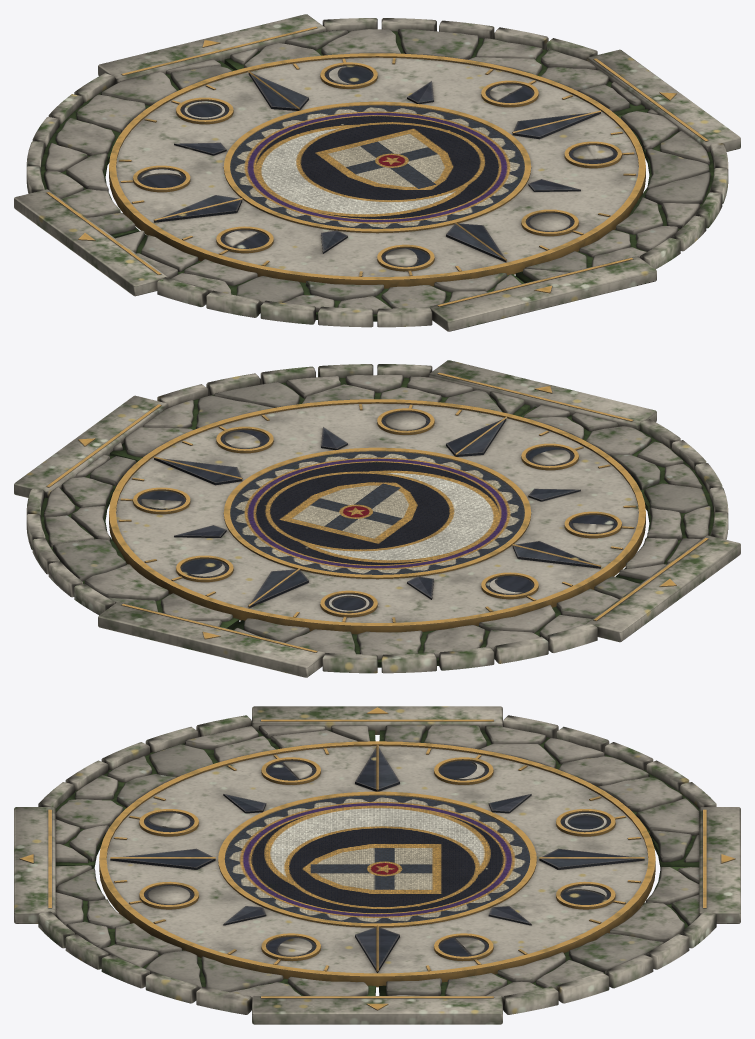
File: PathMoonRoundel.fbx
The picture shows the model from 3 angles, top to bottom: view 1: azimuth 30°, elevation 25°; view 2: azimuth 150°, elevation 25°; view 3: azimuth 270°, elevation 25°; orthographic projection. The views are drawn at different scales.
Parts seen in each view (by area): view 1: PathMoonRoundel_Main, PathMoonRoundel_Inlay; view 2: PathMoonRoundel_Main, PathMoonRoundel_Inlay; view 3: PathMoonRoundel_Main, PathMoonRoundel_Inlay.
Boxes of the visible parts, box(x1,y1,x2,y2) form: PathMoonRoundel_Main: box(14, 14, 740, 331); PathMoonRoundel_Inlay: box(230, 105, 524, 228); PathMoonRoundel_Main: box(14, 360, 740, 677); PathMoonRoundel_Inlay: box(230, 451, 524, 574); PathMoonRoundel_Main: box(14, 706, 740, 1024); PathMoonRoundel_Inlay: box(224, 795, 530, 923).
Size of the model in its own units: 1999 by 44.5 by 1999.
